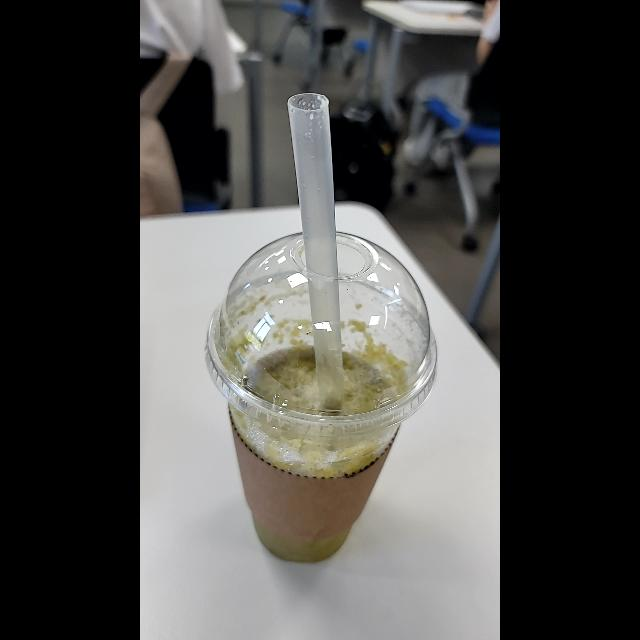plastic_cup: (200, 228, 440, 568)
plastic_cup_lid: (203, 226, 443, 438)
straw: (278, 95, 348, 388)
